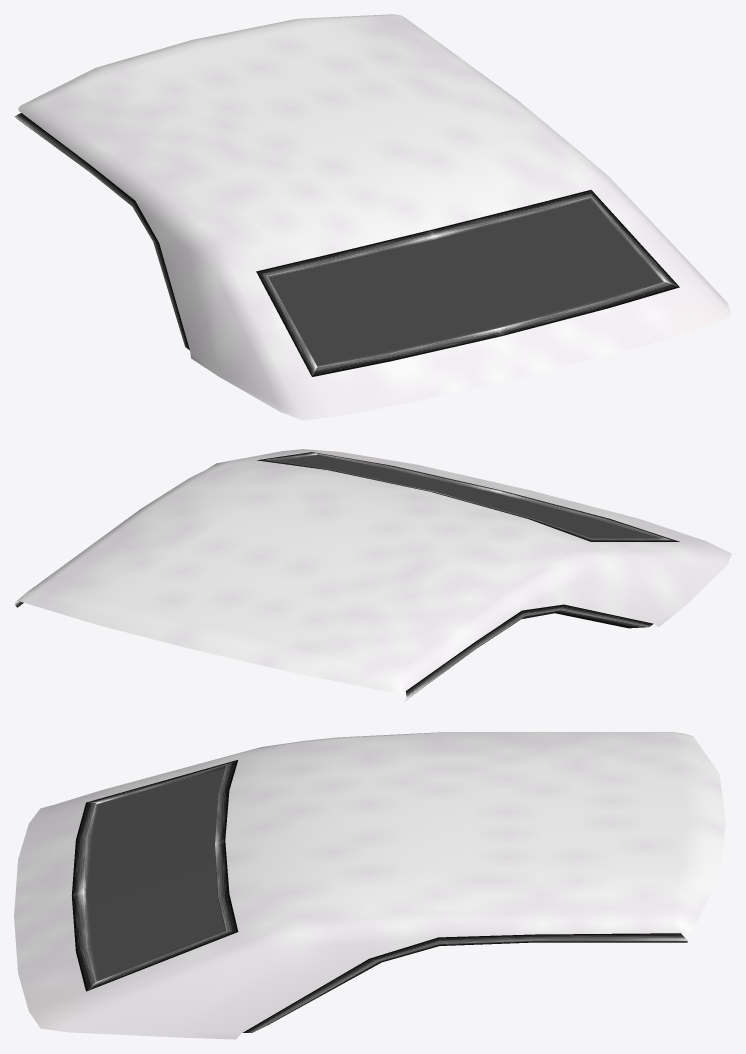
3 views of the same model, one above another, from view 1: azimuth 30°, elevation 25°; view 2: azimuth 150°, elevation 25°; view 3: azimuth 270°, elevation 25° (orthographic). The views are drawn at different scales.
Parts seen in each view (by area): view 1: rf_lr_bl1; view 2: rf_lr_bl1; view 3: rf_lr_bl1.
Boxes of the visible parts, x1=… form: rf_lr_bl1: x1=14, y1=14, x2=731, y2=420; rf_lr_bl1: x1=14, y1=449, x2=731, y2=699; rf_lr_bl1: x1=14, y1=732, x2=725, y2=1039.
Size of the model in its own units: 2.02 by 0.4109 by 2.56.
Materials: 4 (4 with a texture image).
